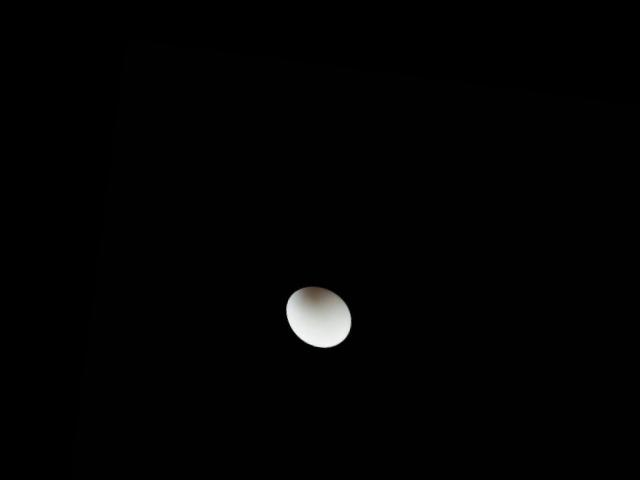egg: (281, 283, 354, 350)
